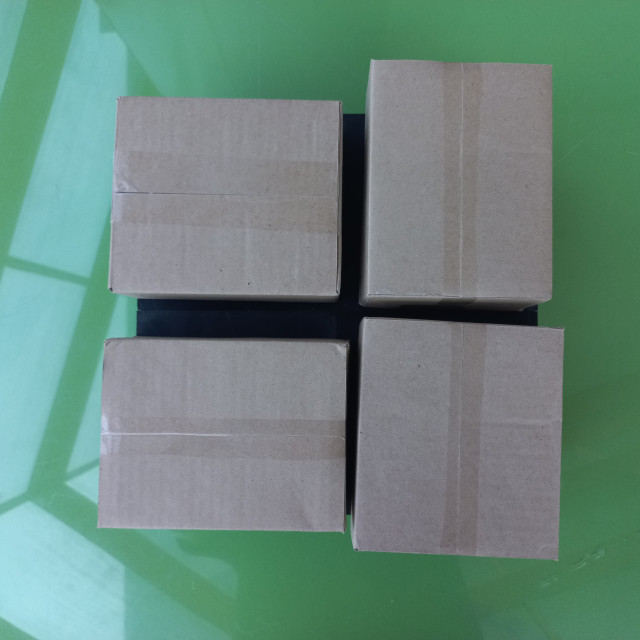box: (136, 76, 296, 324), (297, 102, 491, 306), (145, 329, 291, 583), (302, 338, 479, 544)
